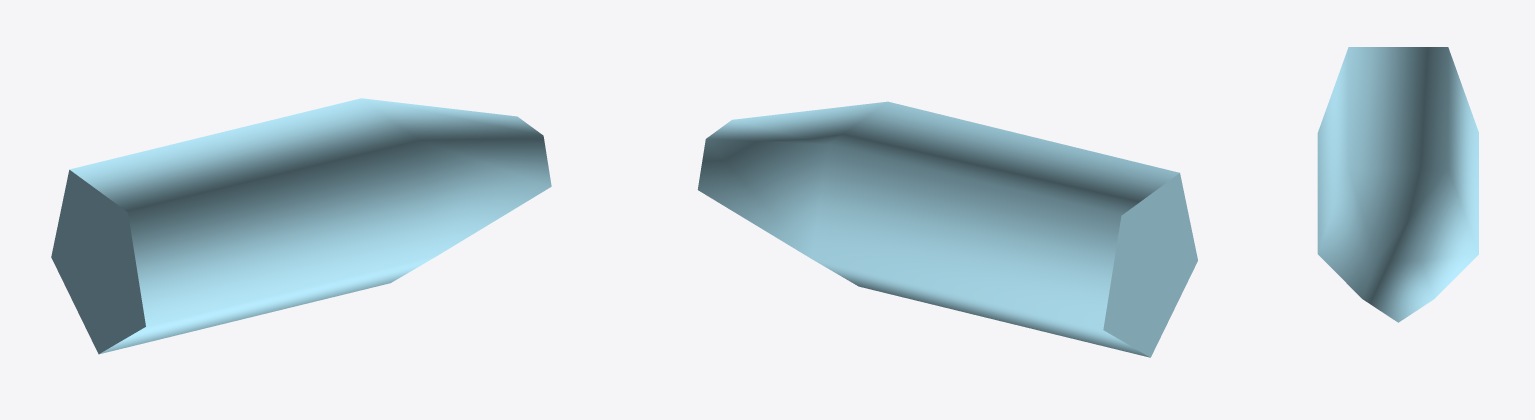
File: energyslug.glb
3 views of the same model, side by side, from view 1: azimuth 30°, elevation 25°; view 2: azimuth 150°, elevation 25°; view 3: azimuth 270°, elevation 25° (orthographic). The views are drawn at different scales.
Visible parts, largest first — view 1: energyslug_0; view 2: energyslug_0; view 3: energyslug_0.
Part boxes in pixels (box(x1,y1,x2,y2)): energyslug_0: box(51, 98, 551, 354); energyslug_0: box(697, 101, 1197, 357); energyslug_0: box(1317, 47, 1478, 322).
Size of the model in its own units: 6.48 by 2.83 by 2.98.
Materials: 1 (1 with a texture image).
